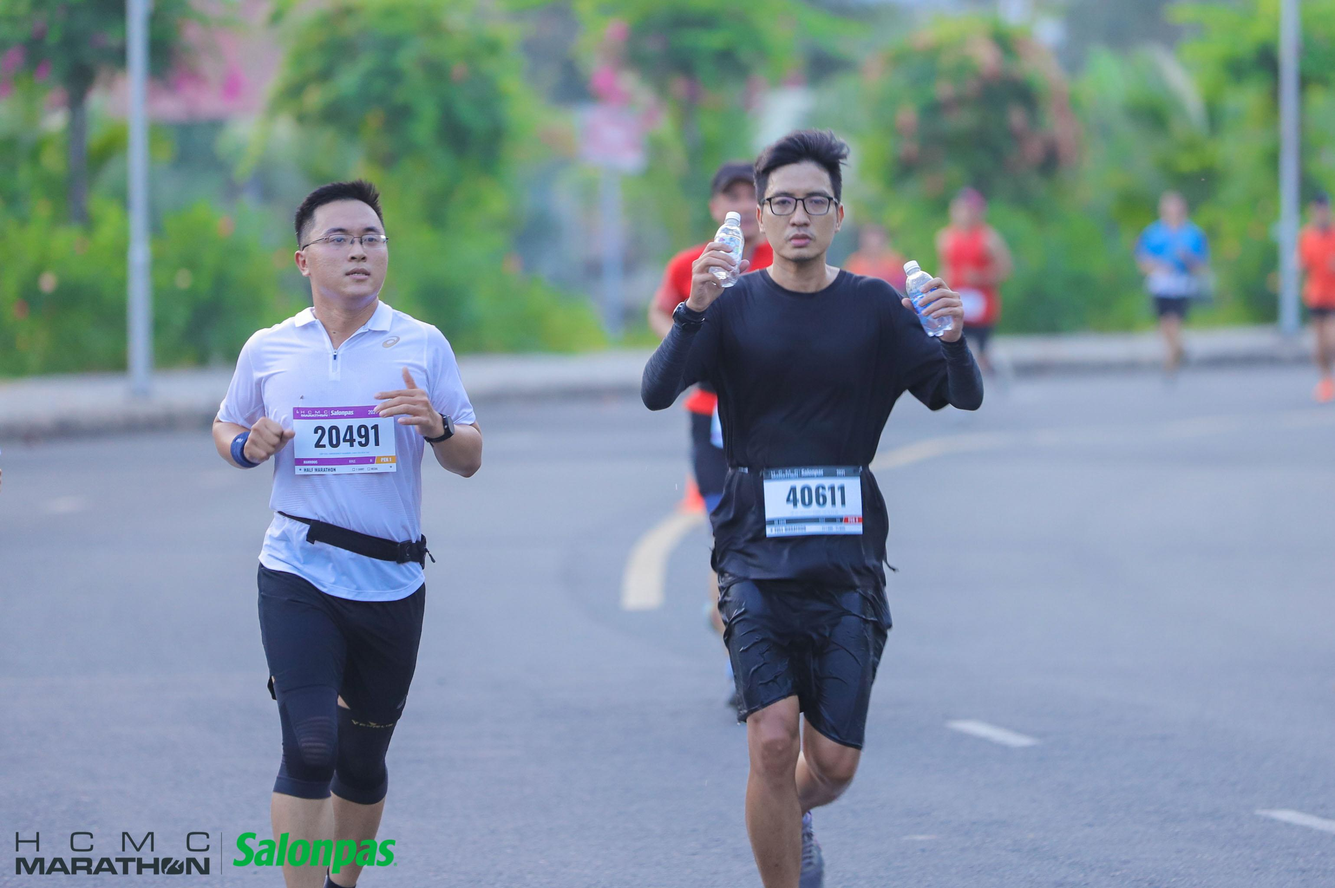bib: (759, 467, 867, 536), (291, 407, 396, 473)
